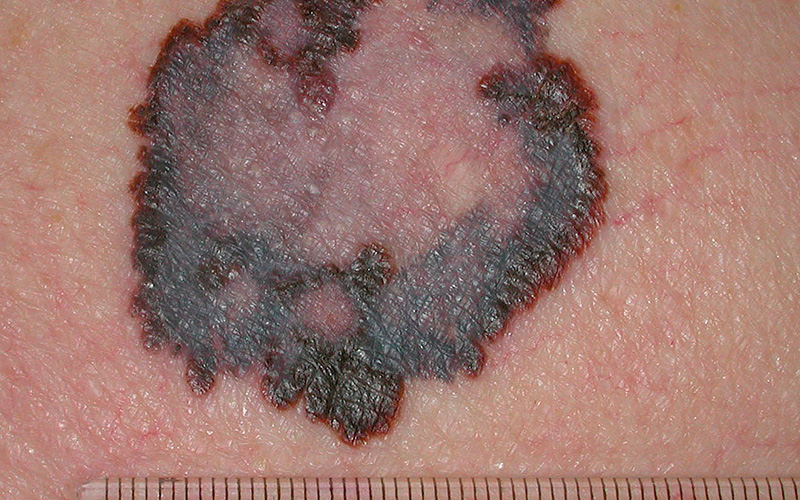melanoma: (124, 12, 611, 440)
